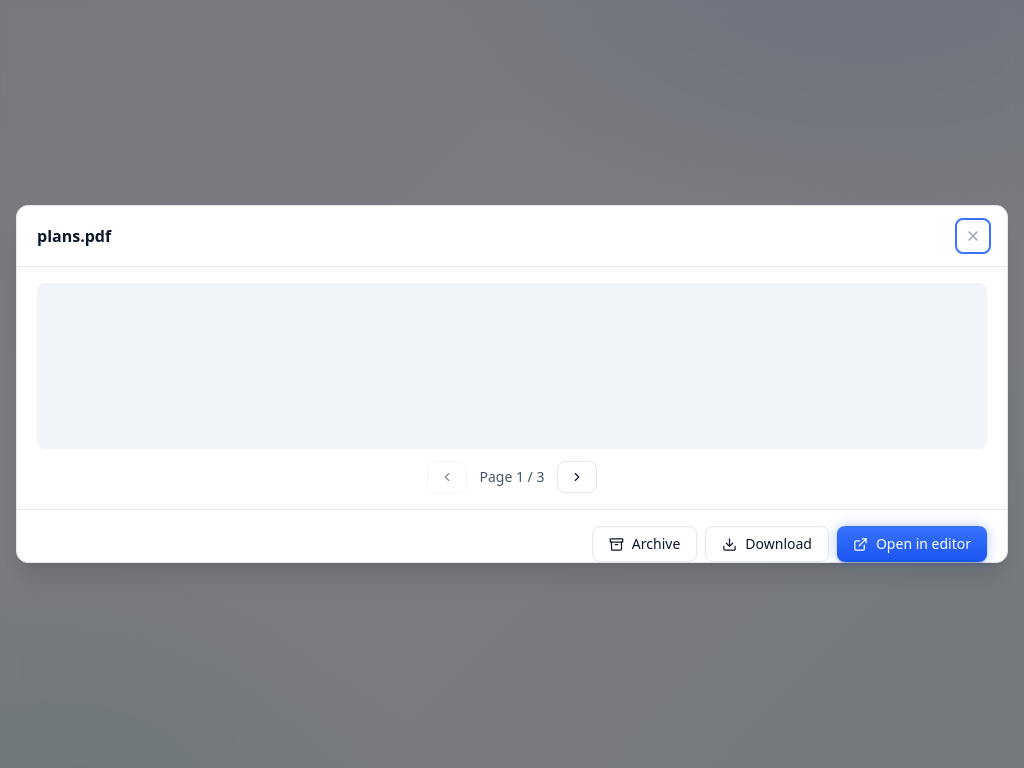
Test: DocumentViewerModal › loads the pdf once, flips pages from the same handle, and destroys it on close
Check: the text "Page 1 / 3" is shown, box [480,467,544,487]
Click the button with test id "doc-viewer-page-next": (576, 477) [556,461,596,493]
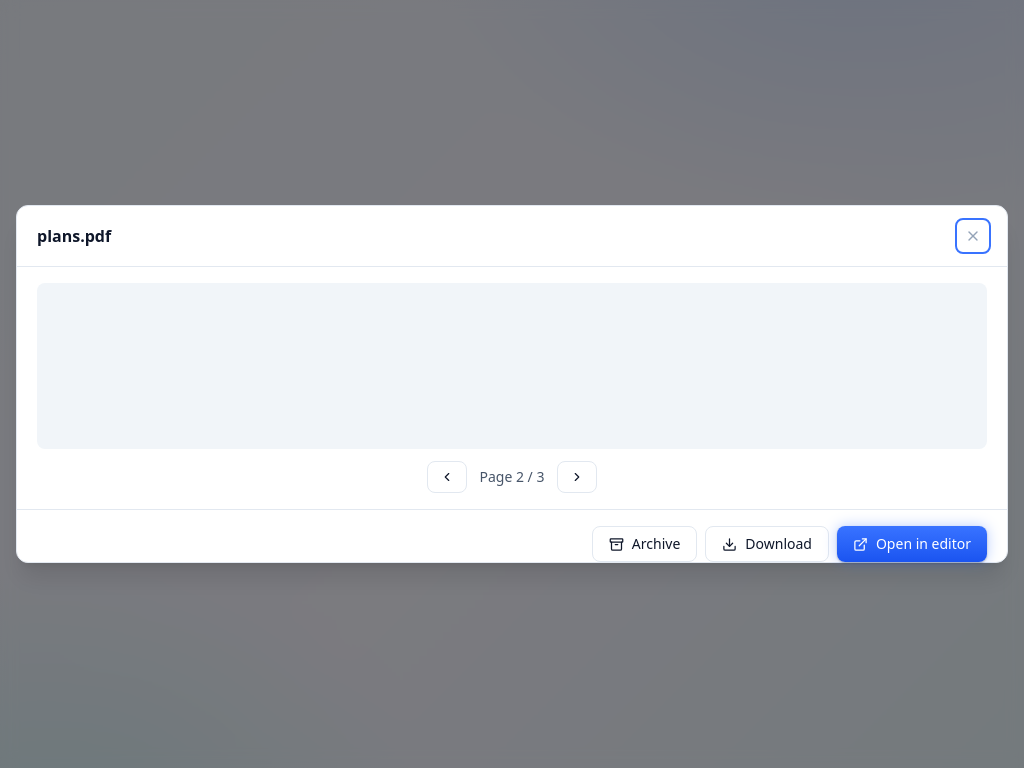
Check: the text "Page 2 / 3" is shown, box [480,467,544,487]
